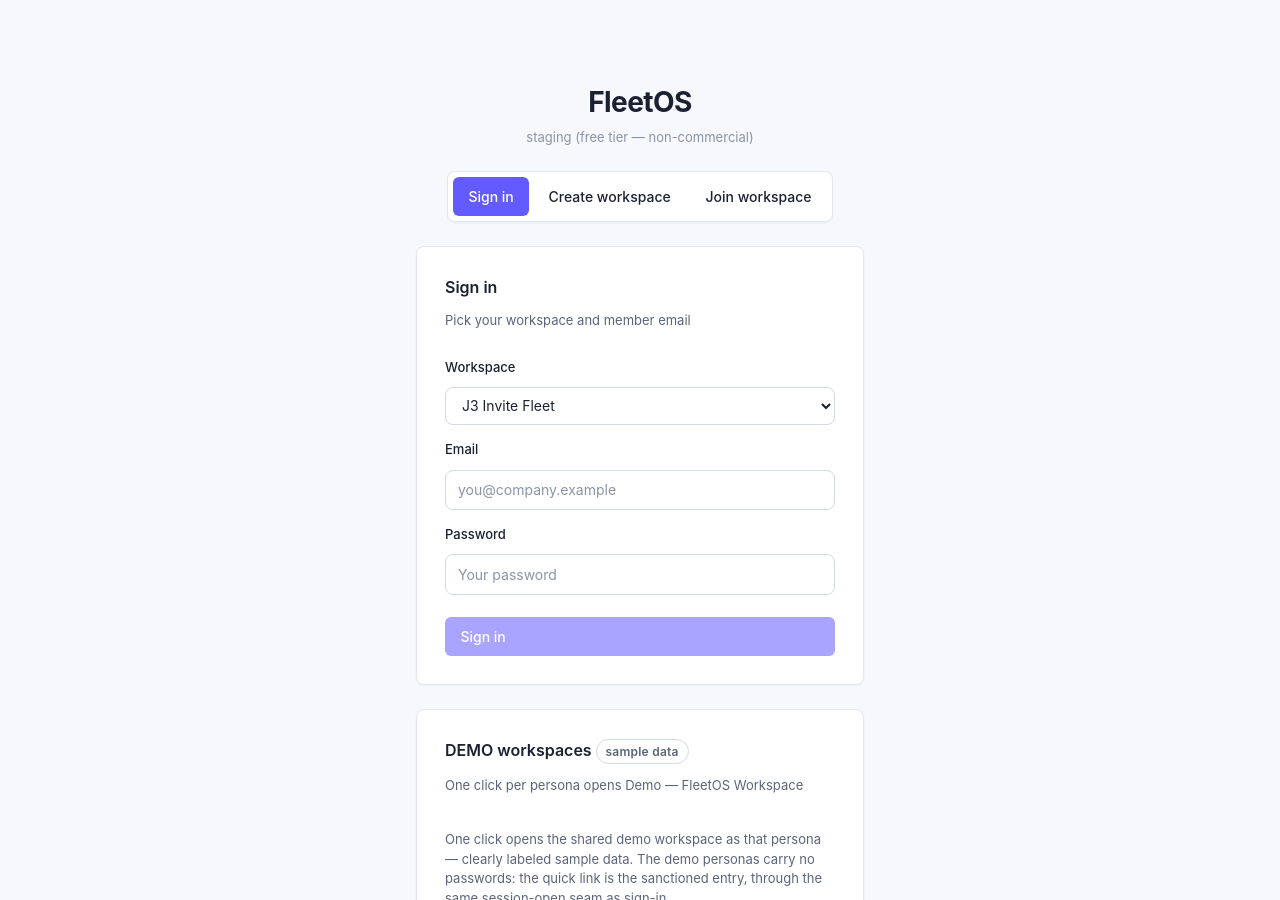
Scenario: W147 J3 join — an unknown join code yields the explicit unknown_code error (never a silent empty alert)
Click the button "Join workspace": (759, 197) [690,177,827,216]
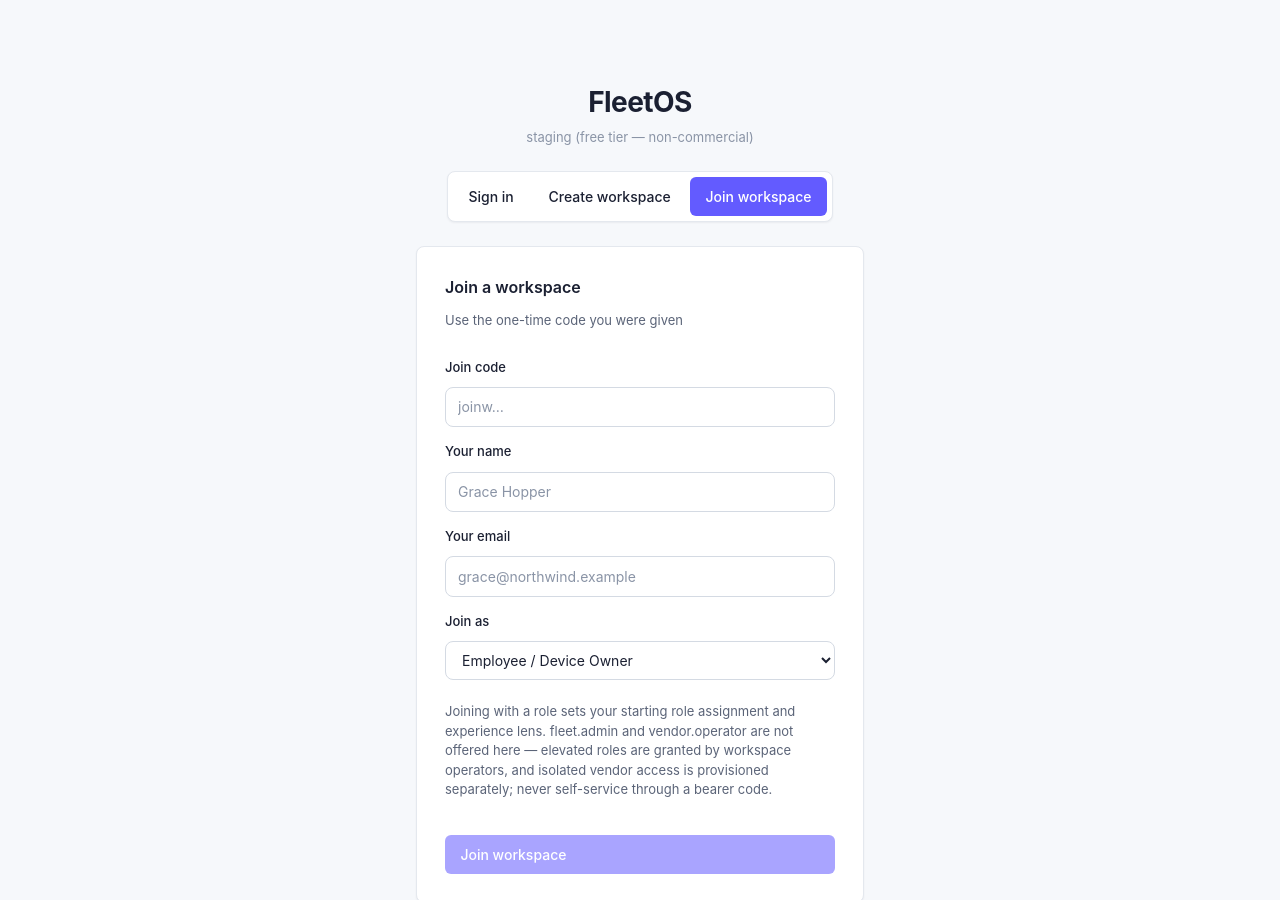
In the field labelled "Join code": (640, 407) [445,387,835,427], type "joinwUNKNOWNCODE000000001"
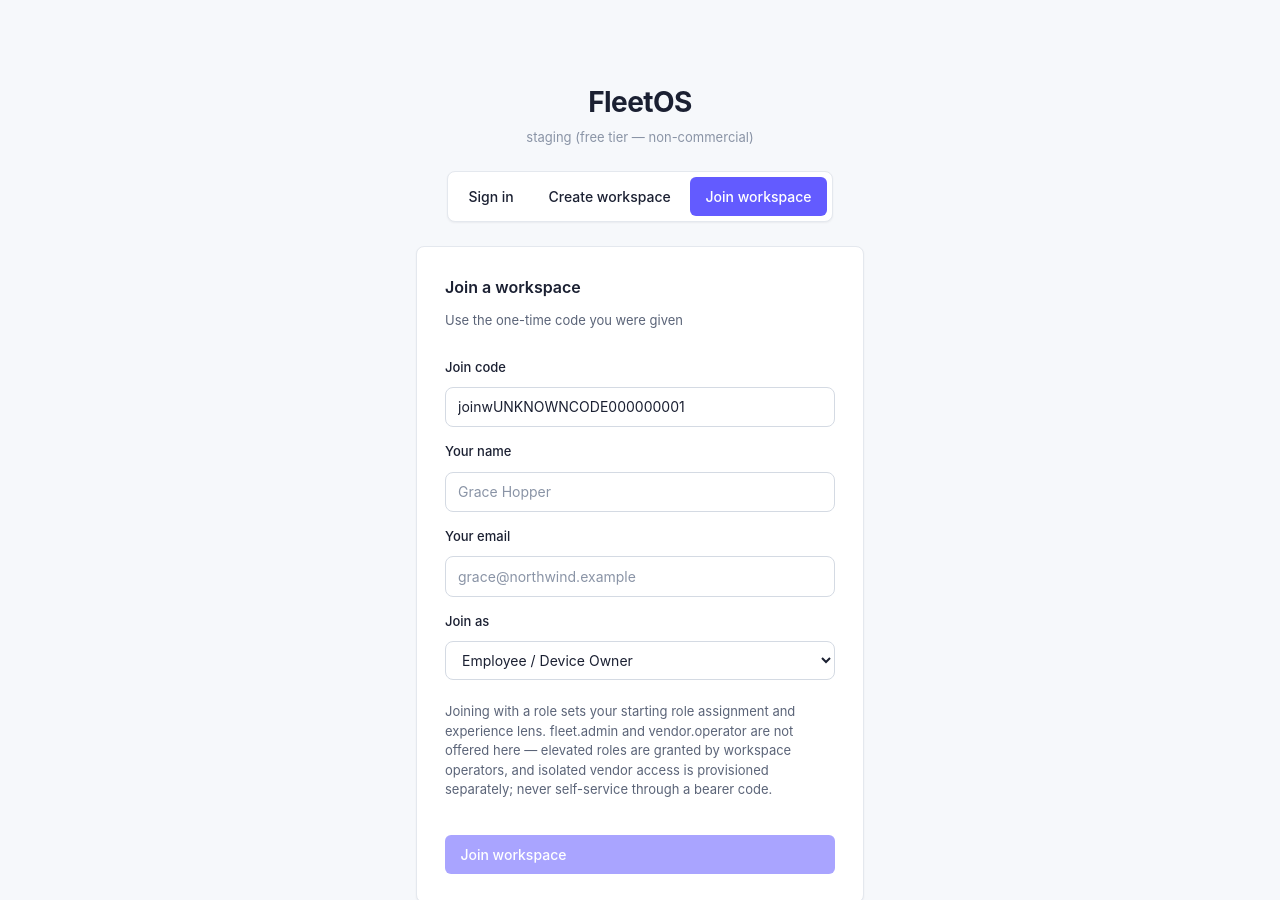
In the field labelled "Your name": (640, 492) [445,472,835,512], type "Eve"
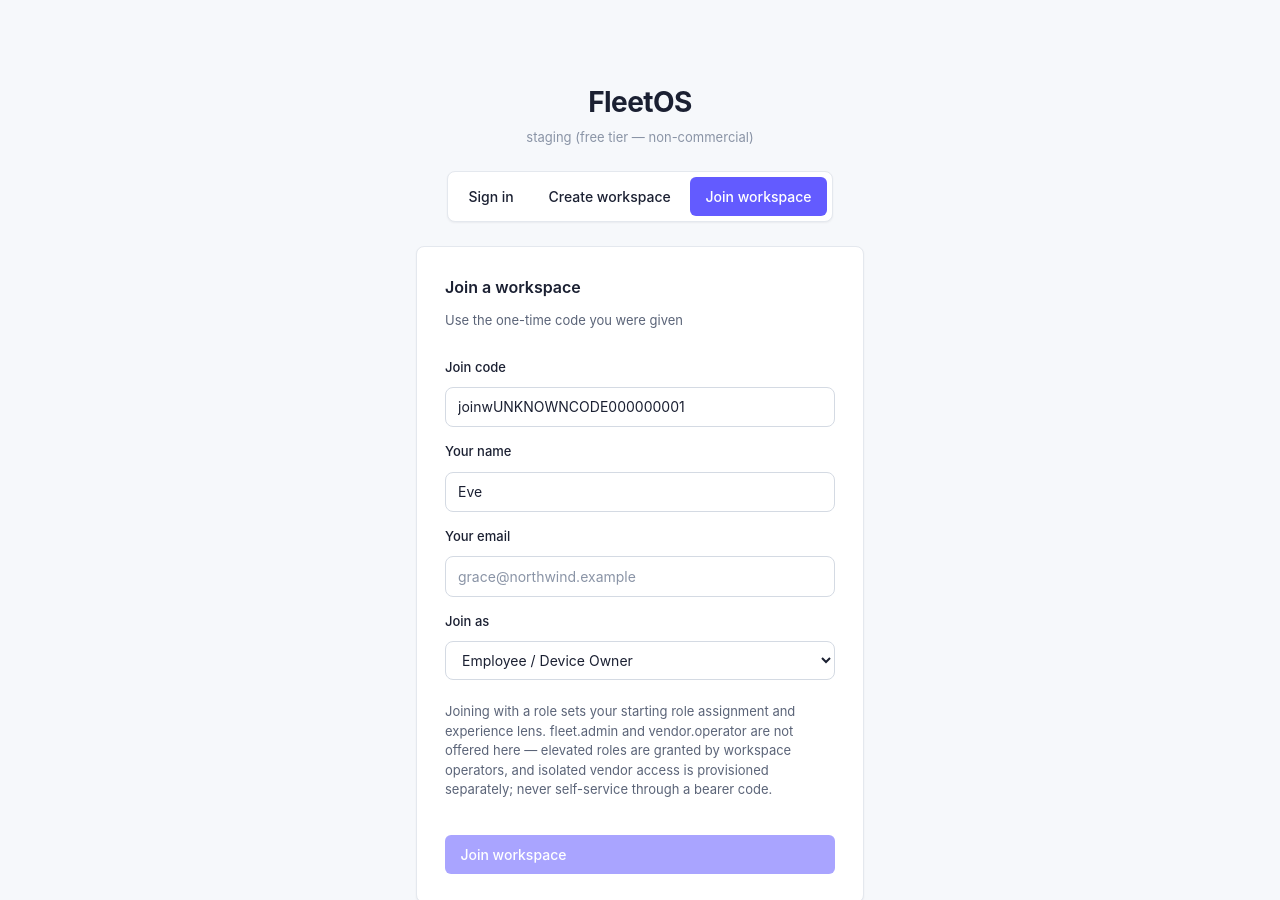
In the field labelled "Your email": (640, 577) [445,556,835,597], type "eve@example.com"
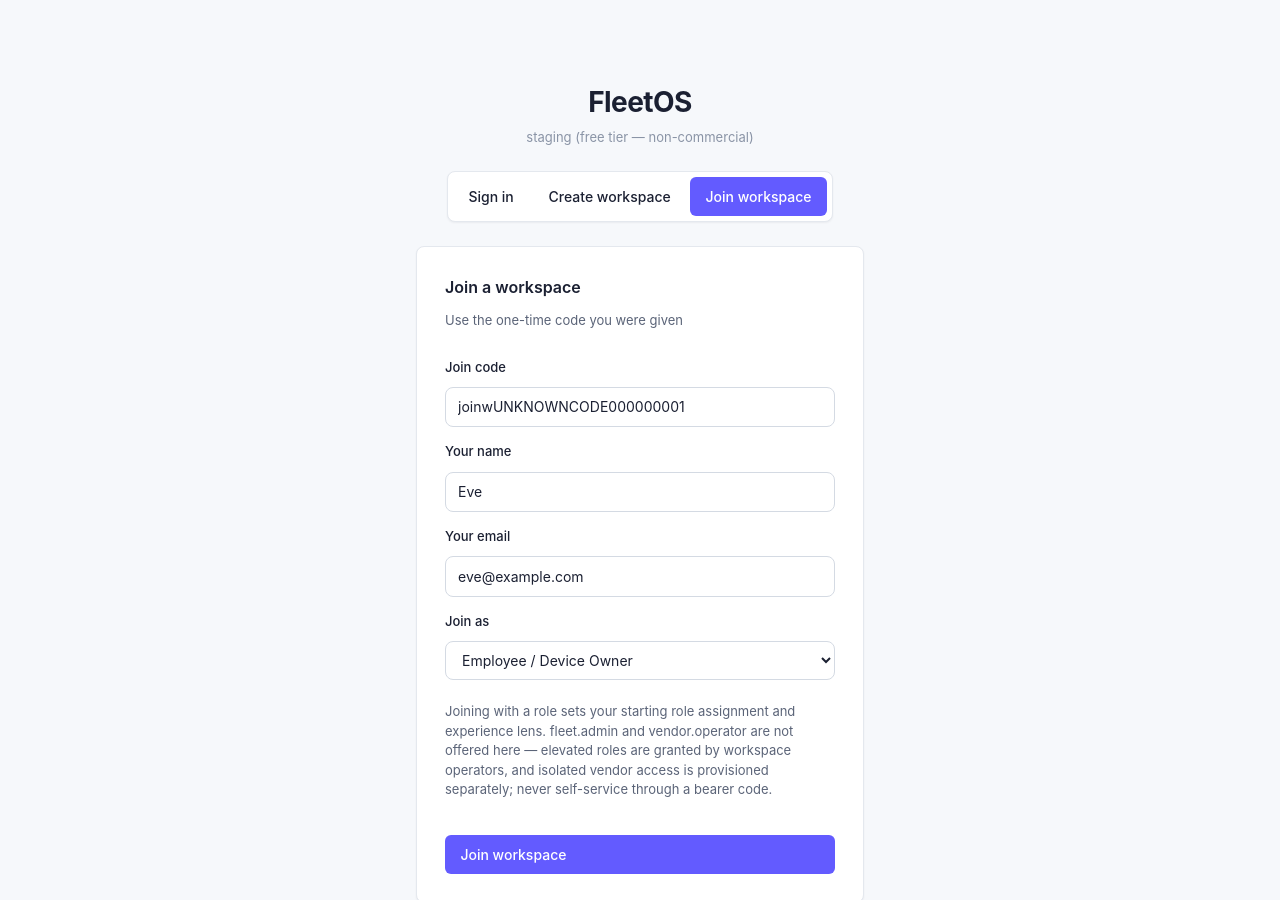
Click the button "Join workspace" below "Join as": (513, 854) [445,835,835,874]
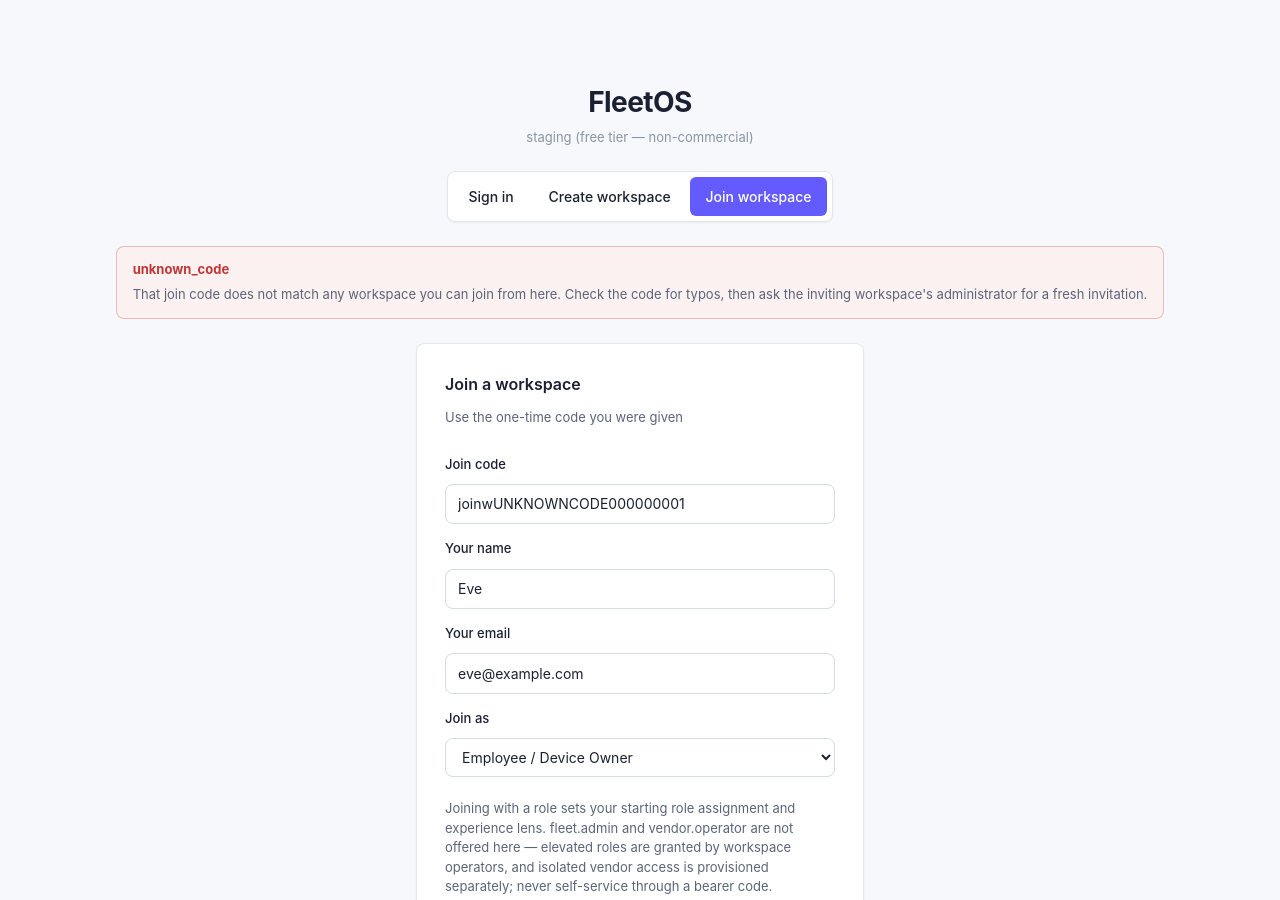
expect the message is shown: met, box [116,246,1164,319]
expect the message shows "unknown_code": met, box [133,262,229,278]
expect the message shows "does not match any workspace": met, box [133,286,1147,302]
